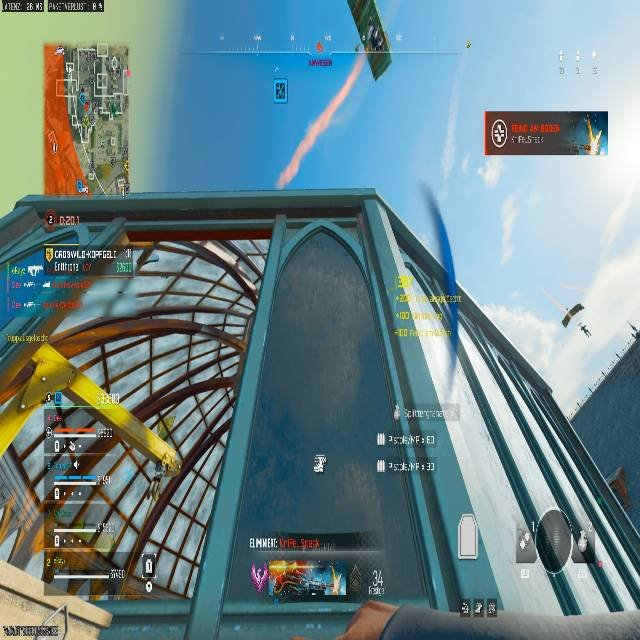player: (561, 302, 592, 337)
